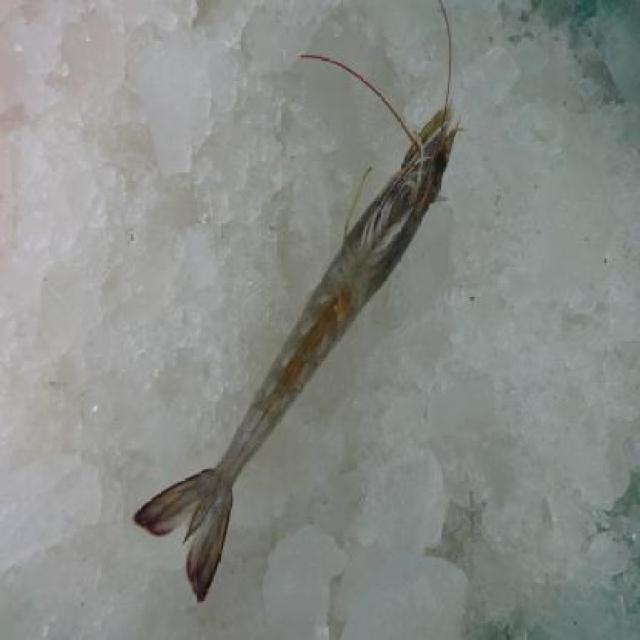shrimp: (127, 82, 469, 602)
